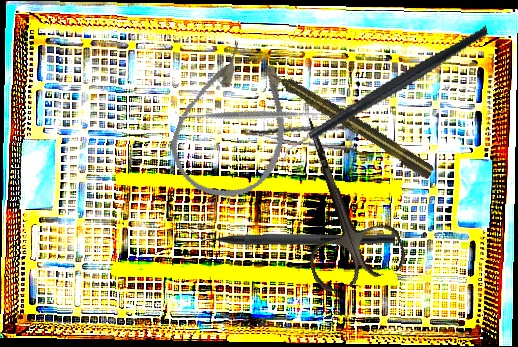Cannula: (158, 31, 312, 213)
Chopper: (263, 25, 506, 171), (187, 220, 396, 248)
Dressing Forceps: (240, 109, 361, 154)
Handpiece: (261, 62, 437, 182)
Iris Scissors: (266, 102, 410, 296)
Spatula Surgical: (174, 38, 330, 193)
